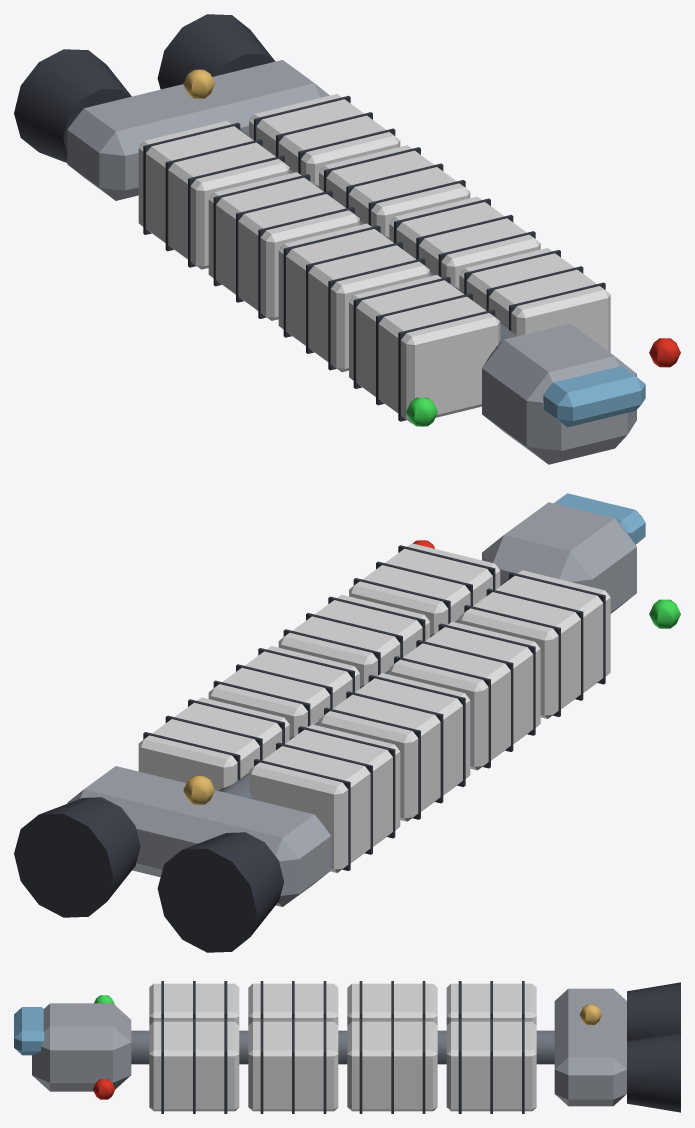
File: cargo.fbx
The picture shows the model from 3 angles, top to bottom: view 1: azimuth 30°, elevation 25°; view 2: azimuth 150°, elevation 25°; view 3: azimuth 270°, elevation 25°; orthographic projection. The views are drawn at different scales.
Visible parts, largest first — view 1: cargo; view 2: cargo; view 3: cargo.
Boxes of the visible parts, left/top/right/bottom form: cargo: left=14, top=14, right=680, bottom=464; cargo: left=14, top=493, right=680, bottom=952; cargo: left=14, top=981, right=680, bottom=1113.
Bounding box in the file's own units: 0.4833 × 0.195 × 1.48.
